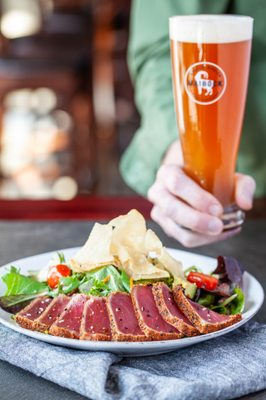pizza: (169, 14, 254, 209)
